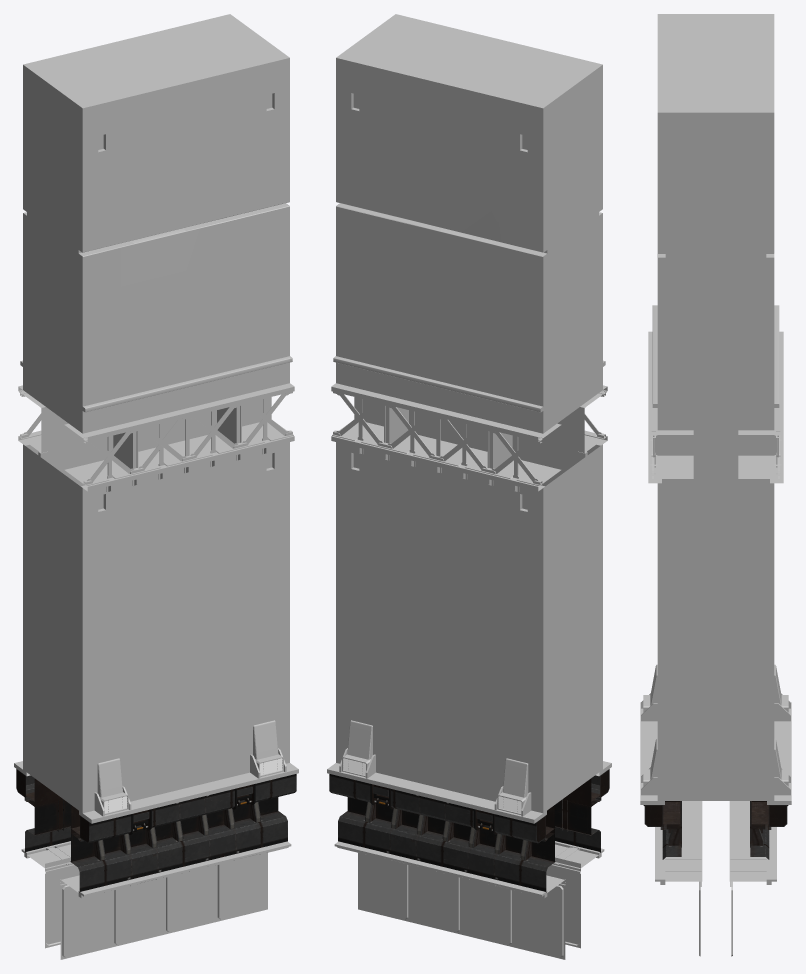
The model's file is Wall_Large_01.fbx.
The picture shows the model from 3 angles, left to right: view 1: azimuth 30°, elevation 25°; view 2: azimuth 150°, elevation 25°; view 3: azimuth 270°, elevation 25°; orthographic projection. The views are drawn at different scales.
Parts seen in each view (by area): view 1: Concrete_Block, Element1, Element2, Element3; view 2: Concrete_Block, Element1, Element2, Element3; view 3: Concrete_Block, Element1, Element3, Element2.
Part boxes in pixels (x1=…): Concrete_Block: x1=20, y1=14, x2=292, y2=813; Element1: x1=14, y1=720, x2=298, y2=959; Element2: x1=16, y1=769, x2=296, y2=892; Element3: x1=18, y1=383, x2=294, y2=492; Concrete_Block: x1=333, y1=14, x2=605, y2=813; Element1: x1=327, y1=720, x2=611, y2=959; Element2: x1=329, y1=769, x2=609, y2=892; Element3: x1=331, y1=383, x2=607, y2=492; Concrete_Block: x1=652, y1=14, x2=779, y2=800; Element1: x1=640, y1=664, x2=791, y2=956; Element3: x1=648, y1=331, x2=783, y2=483; Element2: x1=643, y1=801, x2=788, y2=859.
Size of the model in its own units: 804 by 3200 by 518.
